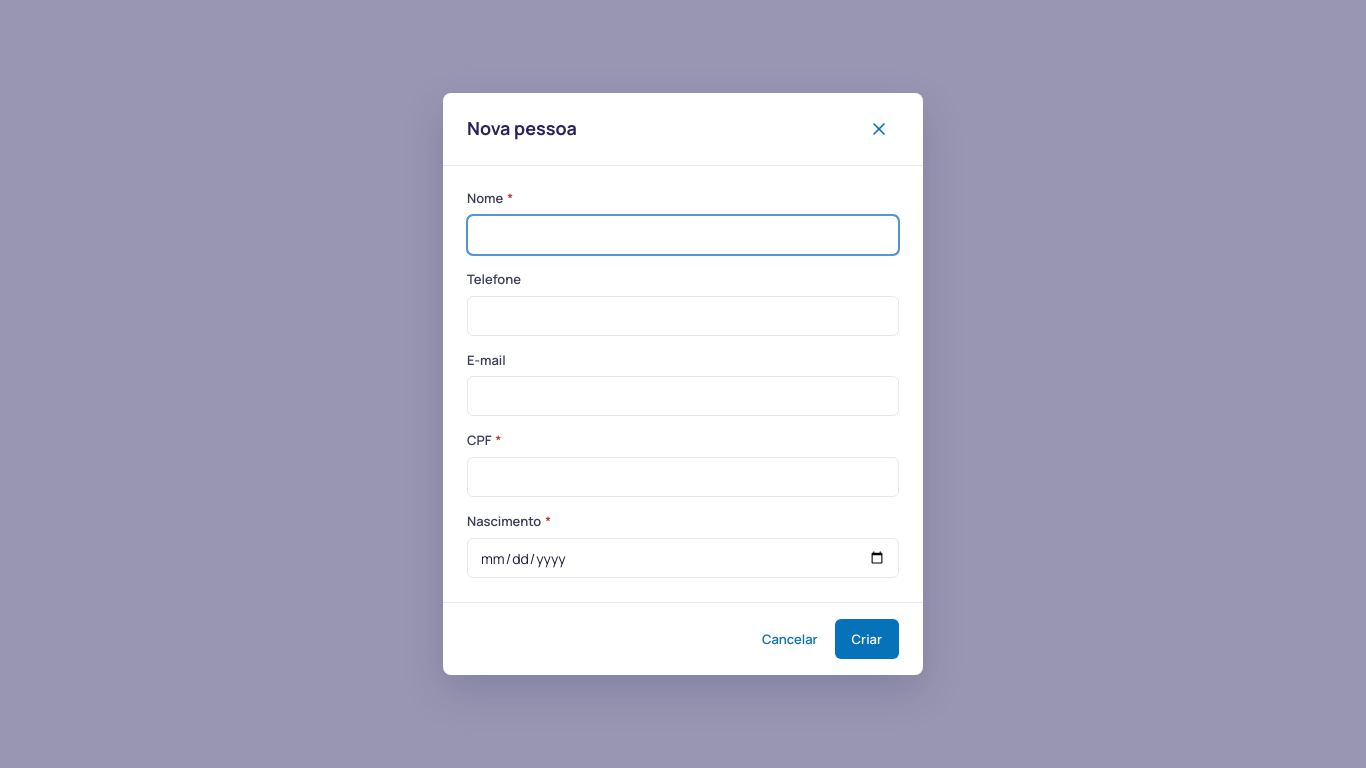
Test case: 422 email_invalido vai para o campo, não para o banner
Type "Carlos Mendes" into the field labelled "Nome *" at (683, 235), box [467, 215, 899, 255]
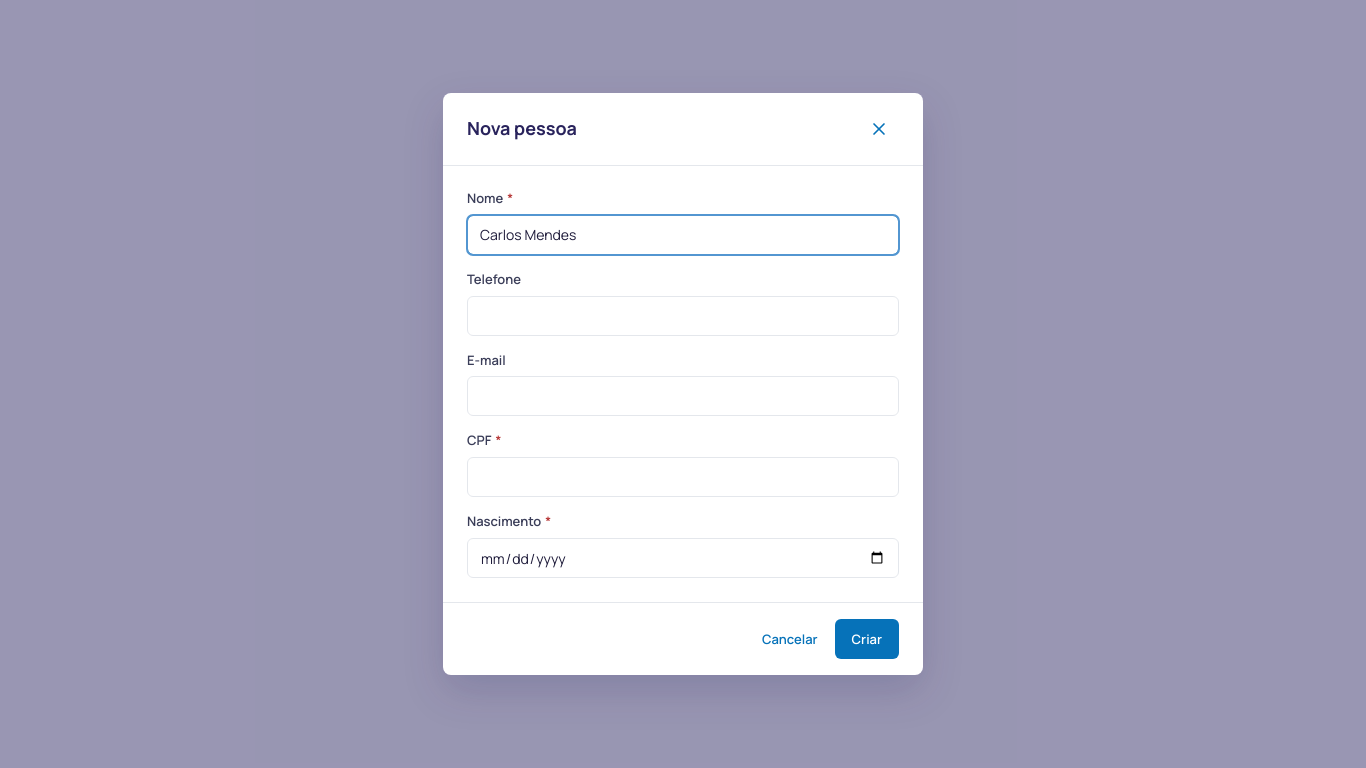
Type "52998224725" into the field labelled "CPF *" at (683, 477), box [467, 457, 899, 497]
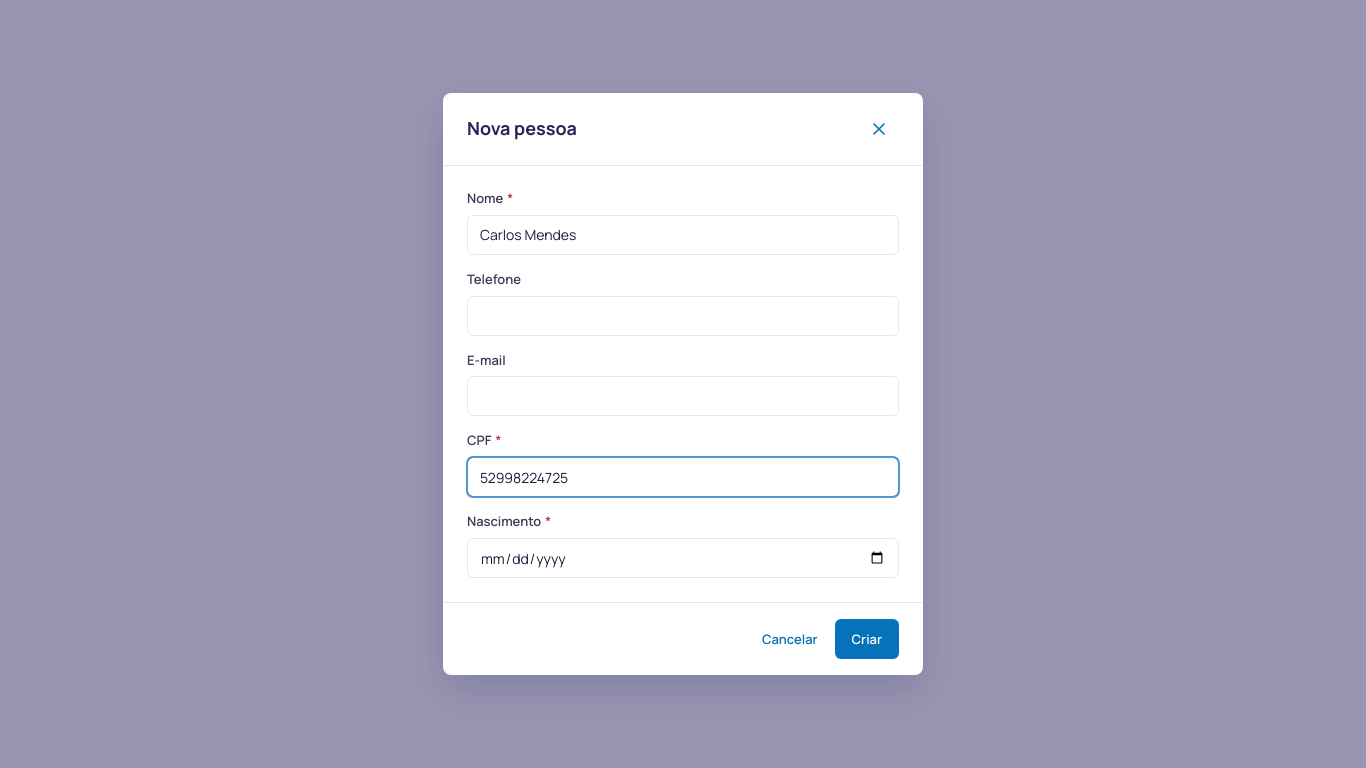
Type "1980-05-05" into the date field labelled "Nascimento *" at (683, 558), box [467, 538, 899, 578]
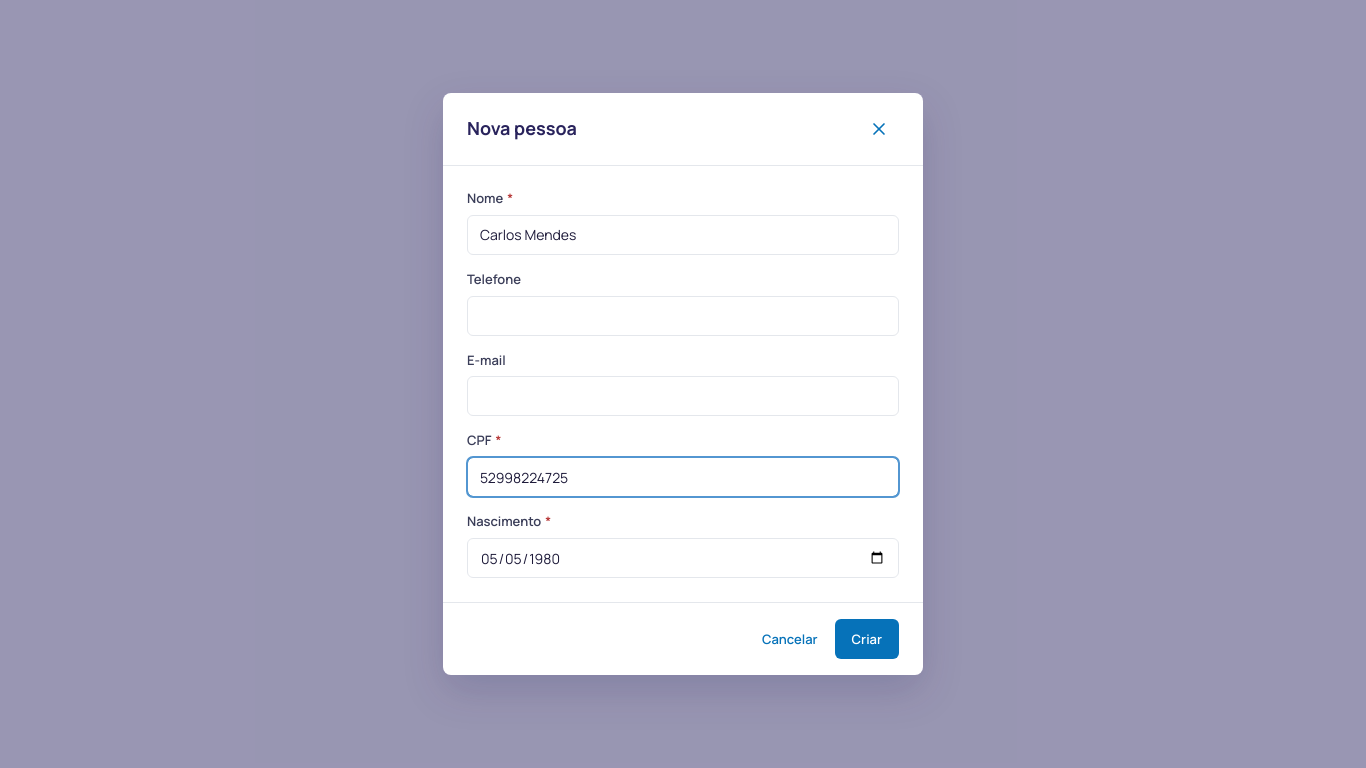
Click the button "Criar" at (867, 639), box [835, 619, 899, 659]
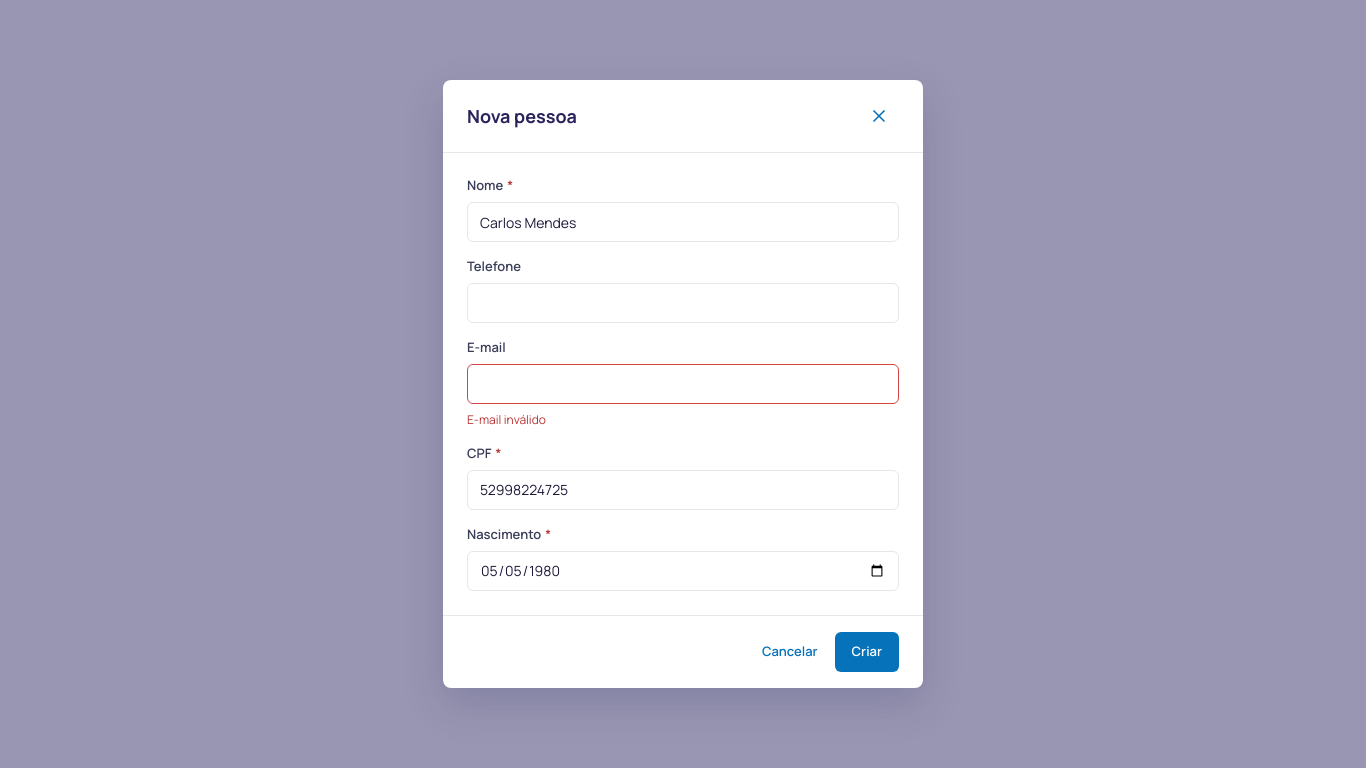
Expected: the number of messages is 1, [467, 411, 546, 428]
